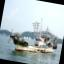fishing boat: (7, 18, 61, 59)
